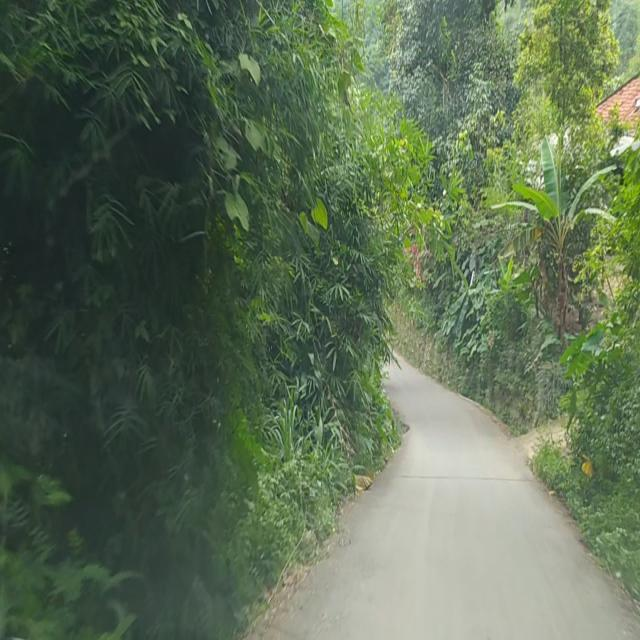Sewer Cover: (386, 470, 530, 484)
